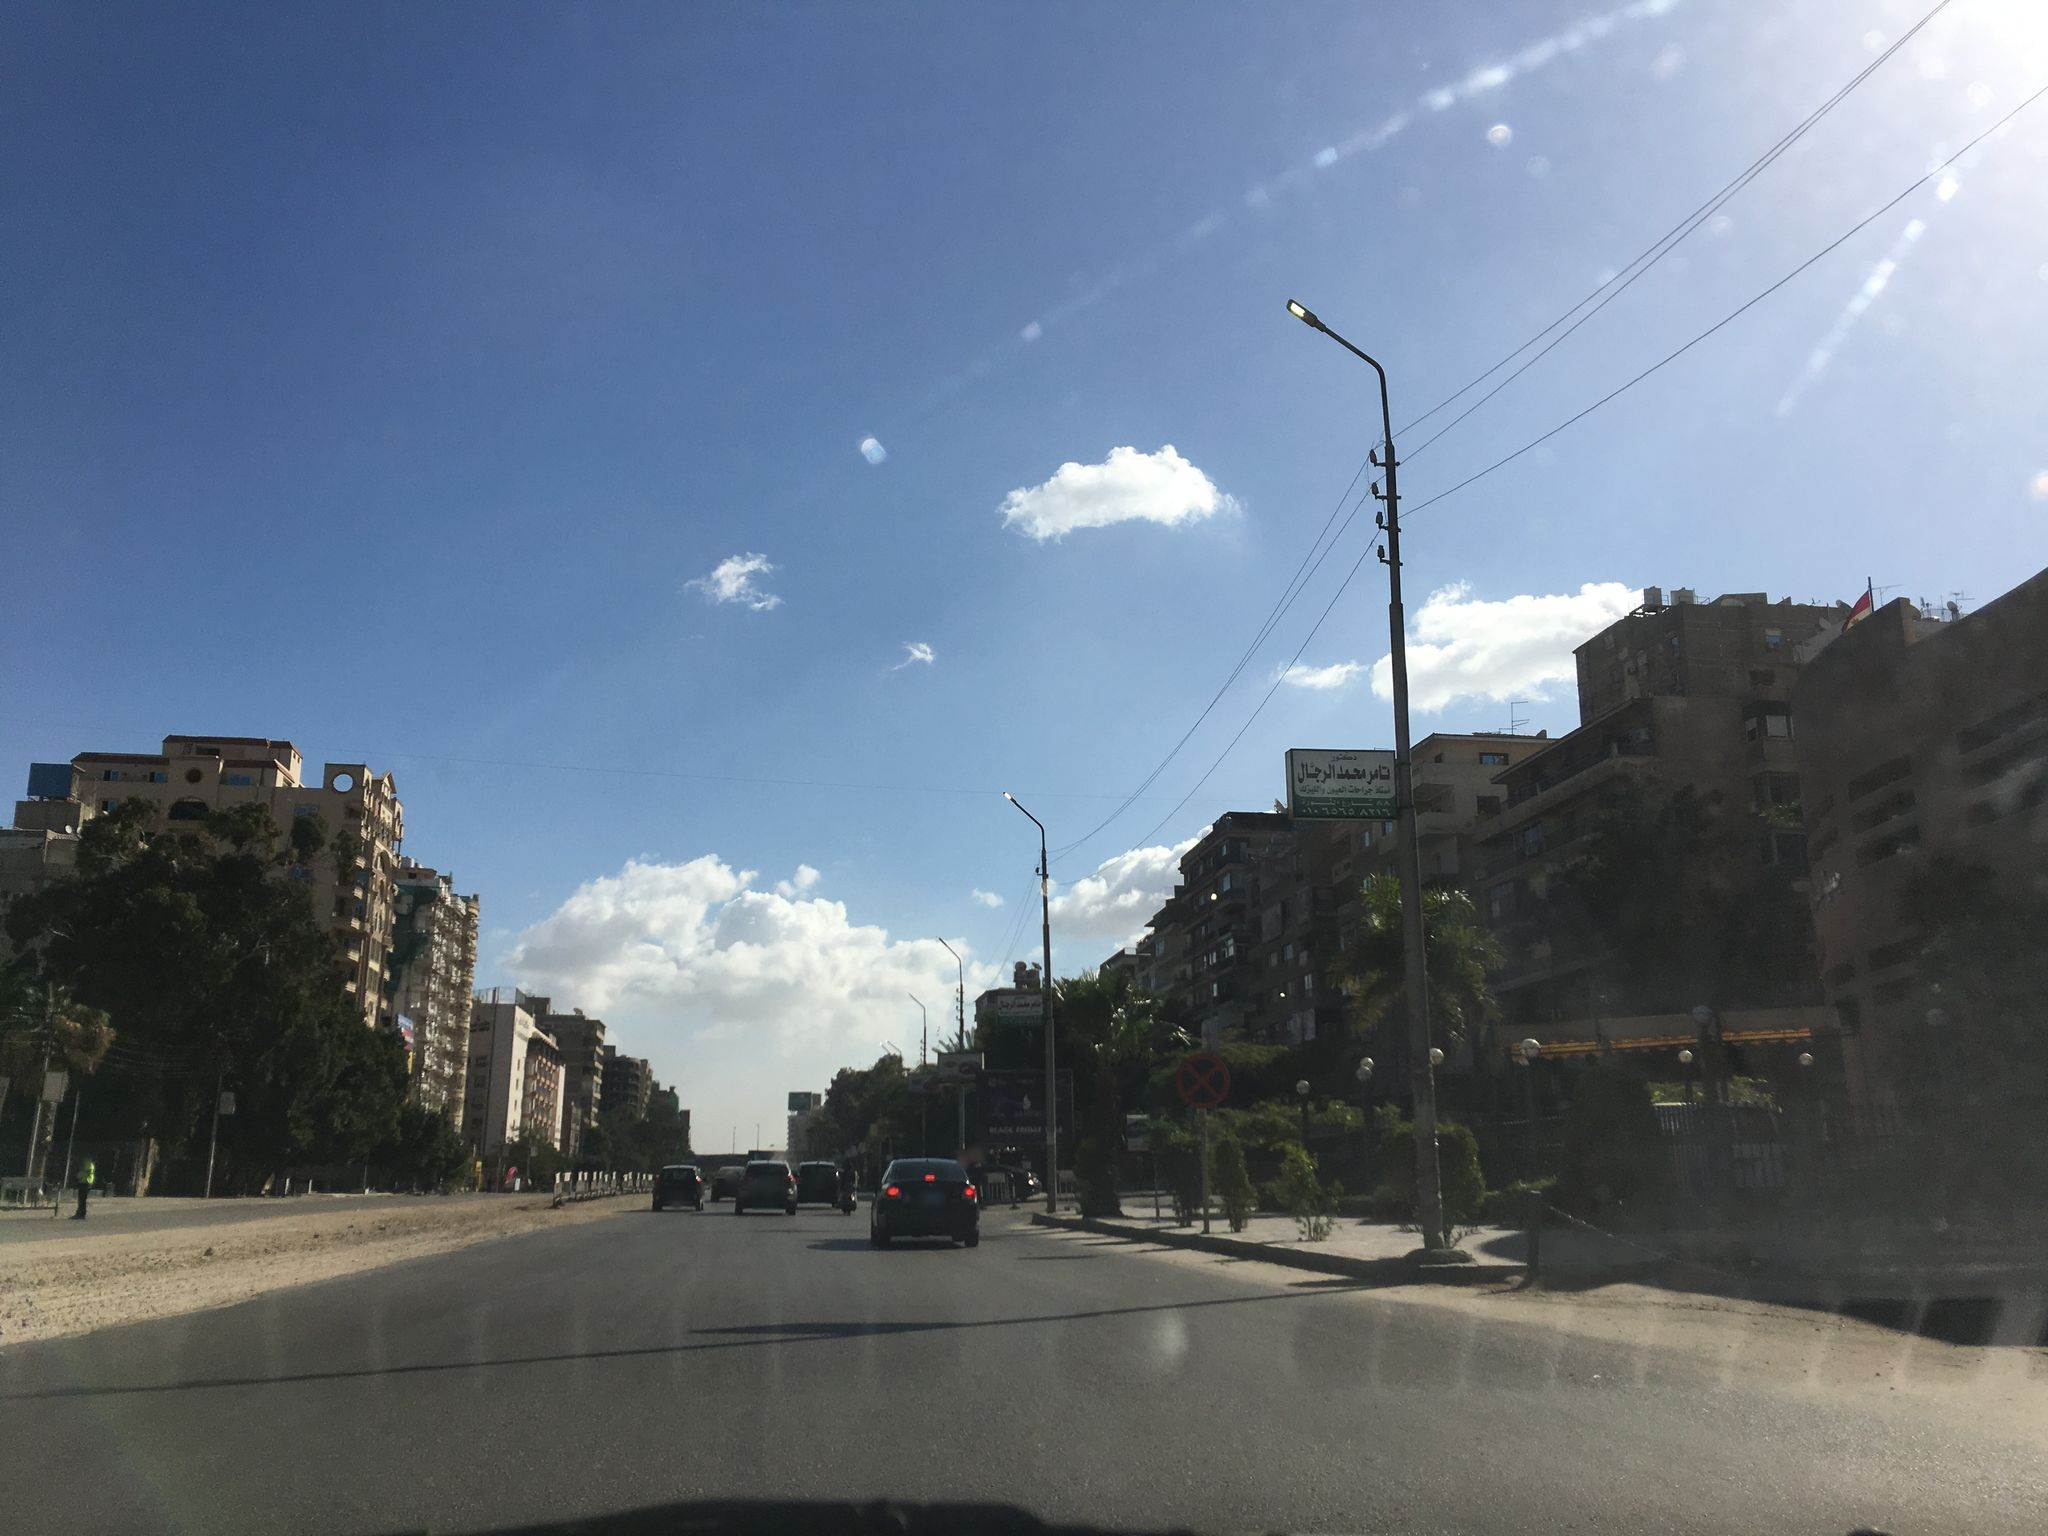car: (864, 1154, 985, 1247), (735, 1158, 800, 1215), (650, 1165, 706, 1212), (793, 1162, 835, 1210), (710, 1165, 745, 1200)
motorcycle: (834, 1171, 860, 1215)
